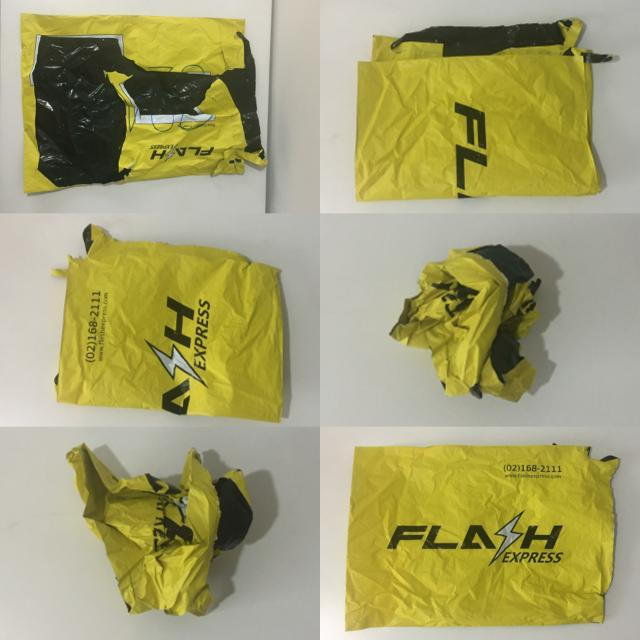Single-layer Plastic: (345, 445, 619, 630), (355, 19, 612, 201), (53, 225, 283, 422), (21, 14, 266, 194), (66, 444, 253, 615), (390, 245, 540, 401)
